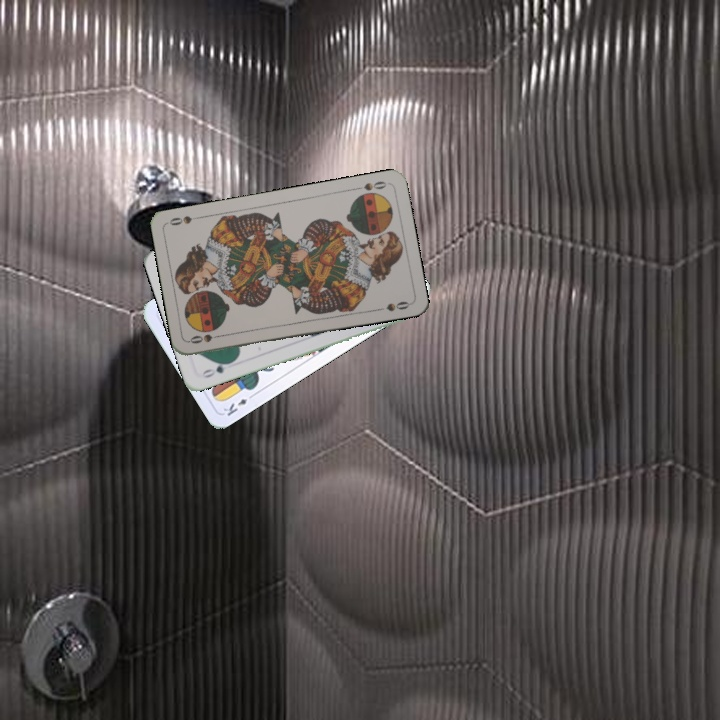EK: (219, 389, 257, 419)
GO: (198, 357, 235, 381)
SO: (186, 330, 226, 346), (350, 177, 389, 193)
